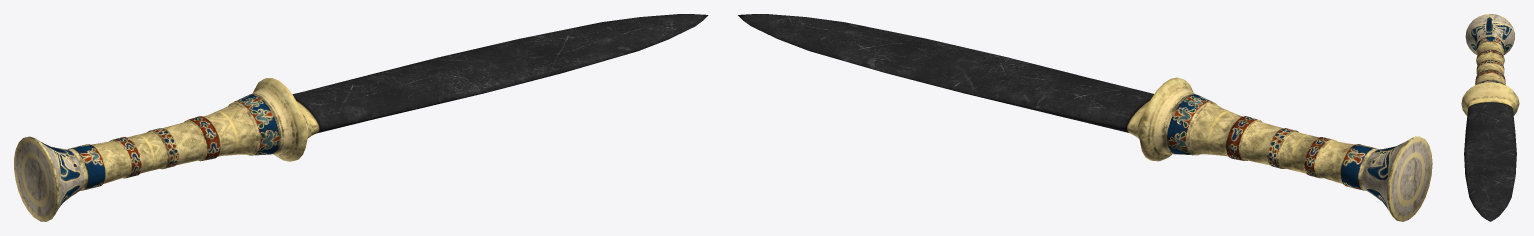
3 views of the same model, side by side, from view 1: azimuth 30°, elevation 25°; view 2: azimuth 150°, elevation 25°; view 3: azimuth 270°, elevation 25° (orthographic). The views are drawn at different scales.
Parts seen in each view (by area): view 1: Tut_Dagger; view 2: Tut_Dagger; view 3: Tut_Dagger.
Boxes of the visible parts, x1,y1,x2,y2 form: Tut_Dagger: (14, 14, 708, 221); Tut_Dagger: (738, 14, 1432, 221); Tut_Dagger: (1461, 14, 1519, 221).
Size of the model in its own units: 0.5975 by 0.067 by 0.0791.
Materials: 1 (1 with a texture image).
